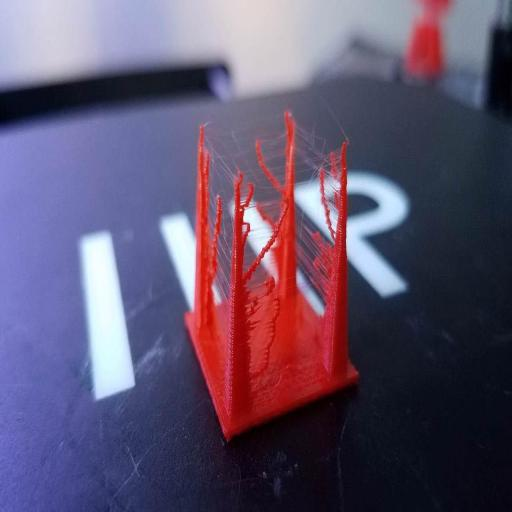stringing: (248, 267, 324, 384), (206, 134, 229, 308), (296, 205, 334, 303), (243, 187, 284, 275), (234, 132, 285, 178), (300, 135, 337, 178)
